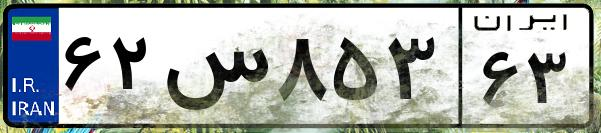2: (110, 28, 158, 98)
3: (385, 28, 445, 110), (525, 38, 570, 115)
5: (330, 28, 385, 110)
6: (57, 26, 110, 100), (475, 38, 525, 113)
8: (270, 28, 330, 110)
س: (158, 20, 270, 120)
